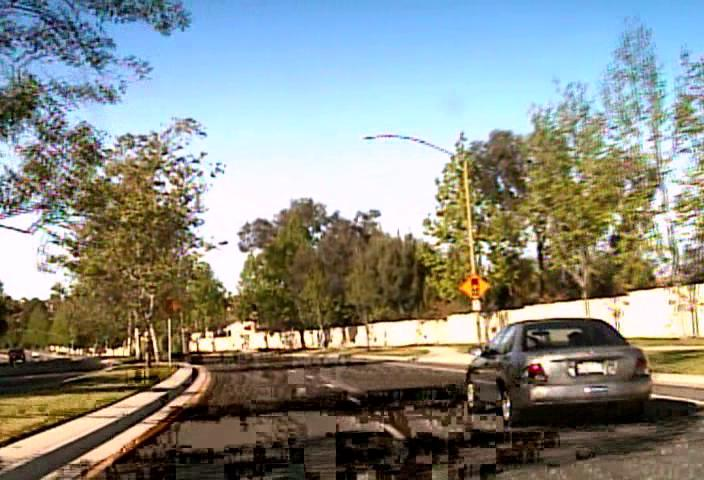signalAhead: (456, 272, 490, 301)
